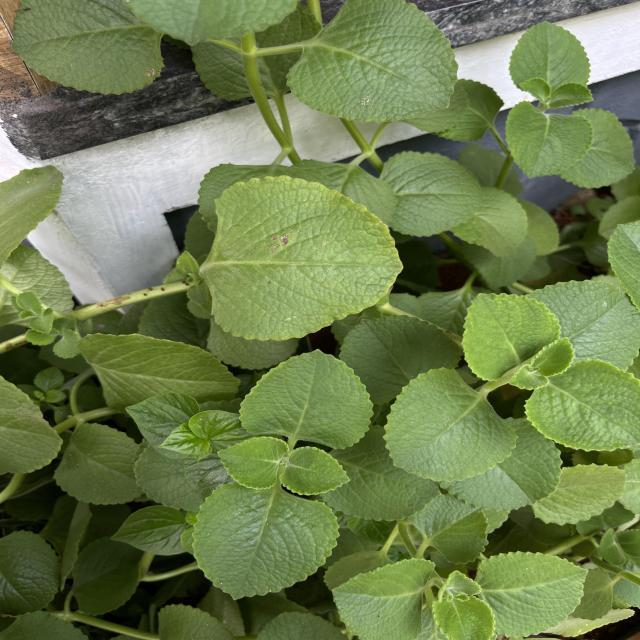Plectranthus barbatus: (208, 174, 406, 343), (284, 0, 460, 124), (190, 483, 342, 601), (382, 365, 518, 483), (10, 0, 164, 95), (237, 348, 376, 450), (79, 332, 242, 411), (437, 417, 562, 513), (523, 360, 640, 452), (475, 550, 590, 640), (460, 291, 562, 382), (378, 150, 483, 238), (331, 557, 436, 640), (51, 421, 143, 506), (504, 100, 595, 180), (530, 462, 629, 524), (508, 20, 591, 89), (0, 528, 62, 614), (217, 434, 290, 491), (280, 446, 352, 496), (428, 595, 495, 640)
